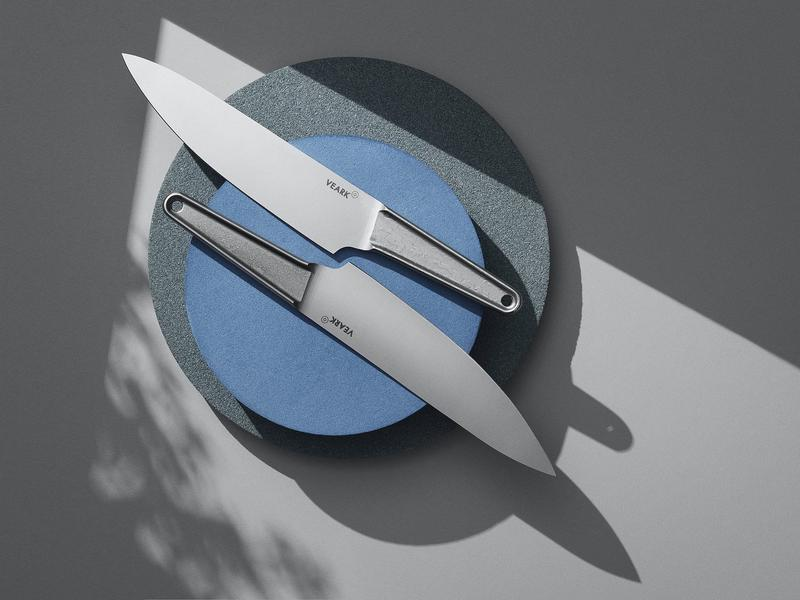KNIFE: (107, 48, 564, 487)
